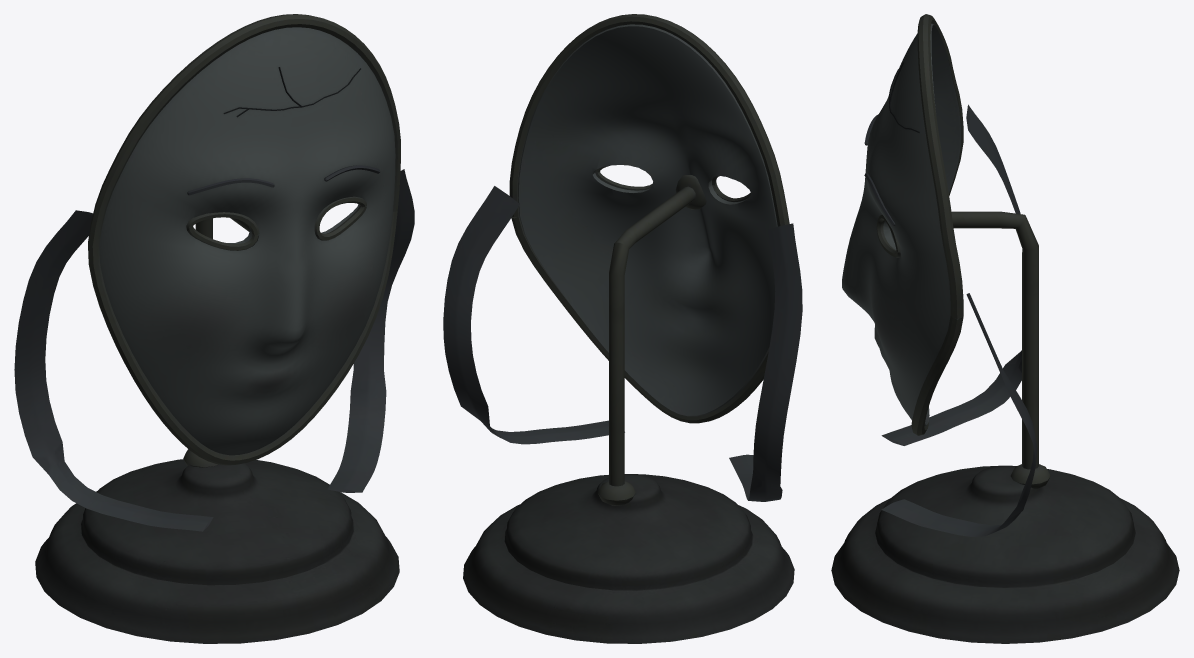
Rendered from porcelain-mask.glb.
3 views of the same model, side by side, from view 1: azimuth 30°, elevation 25°; view 2: azimuth 150°, elevation 25°; view 3: azimuth 270°, elevation 25° (orthographic). The views are drawn at different scales.
Parts seen in each view (by area): view 1: porcelain-mask_body; view 2: porcelain-mask_body; view 3: porcelain-mask_body.
Boxes of the visible parts, box(x1,y1,x2,y2) form: porcelain-mask_body: box(14, 14, 414, 643); porcelain-mask_body: box(443, 14, 802, 643); porcelain-mask_body: box(831, 14, 1179, 643).
Size of the model in its own units: 0.1704 by 0.2444 by 0.139.
Materials: 1 (1 with a texture image).
